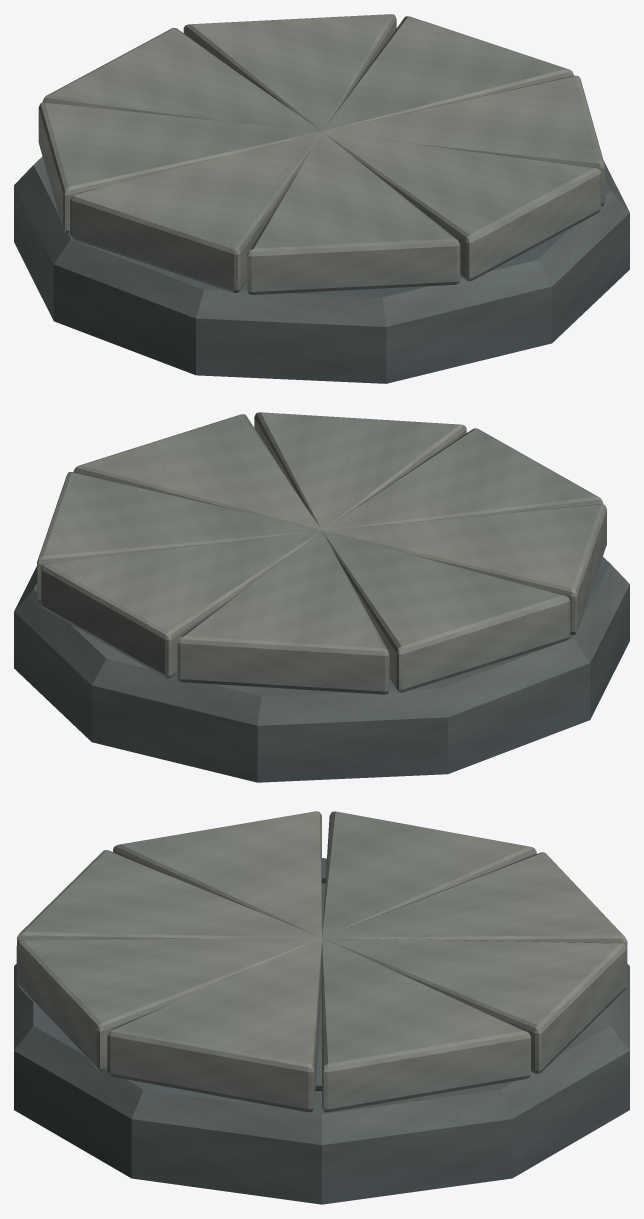
File: forest_shrine_plinth.glb
3 renders of one model, top to bottom at view 1: azimuth 30°, elevation 25°; view 2: azimuth 150°, elevation 25°; view 3: azimuth 270°, elevation 25°, orthographic. The views are drawn at different scales.
Visible parts, largest first — view 1: Shrine stone pedestal, Radial shrine paving stone.005, Radial shrine paving stone.004, Radial shrine paving stone.006, Radial shrine paving stone.003, Radial shrine paving stone.001, Radial shrine paving stone.007, Radial shrine paving stone.002, Radial shrine paving stone; view 2: Shrine stone pedestal, Radial shrine paving stone.002, Radial shrine paving stone.003, Radial shrine paving stone.001, Radial shrine paving stone.004, Radial shrine paving stone.006, Radial shrine paving stone, Radial shrine paving stone.005, Radial shrine paving stone.007; view 3: Shrine stone pedestal, Radial shrine paving stone.007, Radial shrine paving stone, Radial shrine paving stone.001, Radial shrine paving stone.006, Radial shrine paving stone.002, Radial shrine paving stone.004, Radial shrine paving stone.005, Radial shrine paving stone.003.
Boxes of the visible parts, bbox=[...] form: Shrine stone pedestal: bbox=[14, 156, 629, 383]; Radial shrine paving stone.005: bbox=[247, 132, 460, 294]; Radial shrine paving stone.004: bbox=[70, 131, 321, 292]; Radial shrine paving stone.006: bbox=[322, 131, 601, 281]; Radial shrine paving stone.003: bbox=[38, 102, 321, 233]; Radial shrine paving stone.001: bbox=[183, 14, 396, 130]; Radial shrine paving stone.007: bbox=[322, 75, 605, 206]; Radial shrine paving stone.002: bbox=[42, 28, 321, 131]; Radial shrine paving stone: bbox=[322, 16, 573, 131]; Shrine stone pedestal: bbox=[14, 557, 629, 782]; Radial shrine paving stone.002: bbox=[177, 530, 389, 694]; Radial shrine paving stone.003: bbox=[322, 530, 570, 692]; Radial shrine paving stone.001: bbox=[40, 530, 321, 678]; Radial shrine paving stone.004: bbox=[323, 504, 606, 634]; Radial shrine paving stone.006: bbox=[254, 412, 466, 529]; Radial shrine paving stone: bbox=[37, 472, 320, 602]; Radial shrine paving stone.005: bbox=[322, 428, 603, 530]; Radial shrine paving stone.007: bbox=[73, 414, 321, 530]; Shrine stone pedestal: bbox=[14, 858, 629, 1204]; Radial shrine paving stone.007: bbox=[107, 938, 321, 1112]; Radial shrine paving stone: bbox=[322, 938, 530, 1112]; Radial shrine paving stone.001: bbox=[322, 937, 626, 1073]; Radial shrine paving stone.006: bbox=[16, 937, 321, 1071]; Radial shrine paving stone.002: bbox=[323, 852, 627, 977]; Radial shrine paving stone.004: bbox=[113, 811, 321, 937]; Radial shrine paving stone.005: bbox=[17, 850, 320, 942]; Radial shrine paving stone.003: bbox=[322, 811, 536, 937].
Bounding box in the file's own units: 1.58 × 0.35 × 1.5.
Materials: 3 (2 with a texture image).
